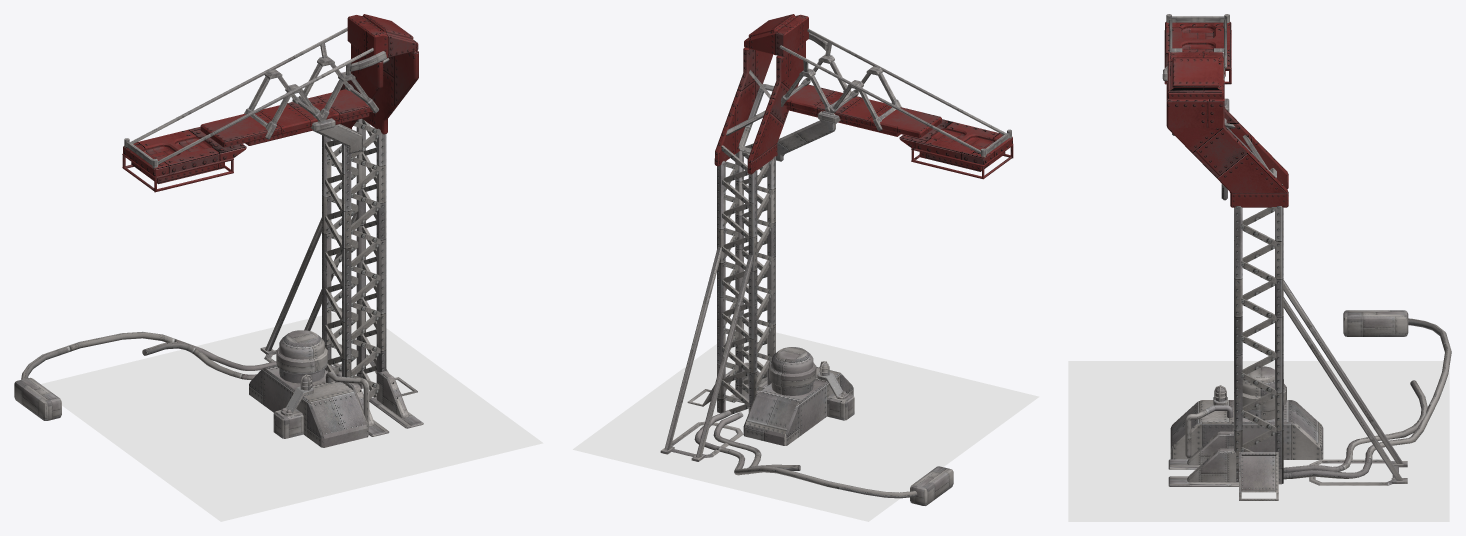
Rendered from static.glb.
The picture shows the model from 3 angles, left to right: view 1: azimuth 30°, elevation 25°; view 2: azimuth 150°, elevation 25°; view 3: azimuth 270°, elevation 25°; orthographic projection. The views are drawn at different scales.
Visible parts, largest first — view 1: scorch, Cube_1_8, Cube_10, Cube_18, Boole, Cube_39, Cylinder_3, Cube_48, Cube_15, Cube_1_3, Sweep_1, Cube_57 (+10 smaller); view 2: scorch, Cube_18, Cube_1_8, Cube_10, Cube_20, Boole, Cube_57, Cylinder_3, Cube_15, Cube_30, Sweep_1, Cube_1_3 (+9 smaller); view 3: scorch, Cube_18, Cube_1_8, Cube_20, Cube_15, Cube_30, Cube_39, Sweep_1, Boole, Cube_2_3, Cube, Cube_13 (+5 smaller).
Boxes of the visible parts, x1,y1,x2,y2 form: scorch: (41, 307, 543, 521); Cube_1_8: (249, 364, 368, 447); Cube_10: (200, 89, 372, 147); Cube_18: (340, 43, 418, 134); Boole: (123, 126, 246, 176); Cube_39: (376, 128, 386, 399); Cylinder_3: (276, 330, 327, 383); Cube_48: (342, 144, 351, 383); Cube_15: (347, 14, 418, 57); Cube_1_3: (130, 27, 373, 164); Sweep_1: (21, 331, 341, 379); Cube_57: (322, 135, 331, 371); scorch: (573, 324, 1039, 521); Cube_18: (714, 41, 805, 174); Cube_1_8: (743, 367, 853, 445); Cube_10: (783, 84, 941, 137); Cube_20: (664, 247, 753, 457); Boole: (899, 119, 1012, 164); Cube_57: (748, 170, 757, 412); Cylinder_3: (769, 347, 816, 395); Cube_15: (744, 14, 808, 56); Cube_30: (717, 161, 725, 413); Sweep_1: (694, 410, 917, 498); Cube_1_3: (779, 28, 1006, 153); scorch: (1068, 361, 1449, 521); Cube_18: (1166, 80, 1288, 207); Cube_1_8: (1170, 400, 1323, 459); Cube_20: (1283, 280, 1402, 480); Cube_15: (1167, 52, 1223, 99); Cube_30: (1275, 206, 1283, 484); Cube_39: (1234, 206, 1242, 481); Sweep_1: (1283, 318, 1451, 479); Boole: (1165, 22, 1231, 70); Cube_2_3: (1187, 431, 1236, 481); Cube: (1239, 452, 1278, 500); Cube_13: (1343, 310, 1408, 336).
Size of the model in its own units: 5.86 by 6.8 by 5.21.
3 materials, 3 textured.
